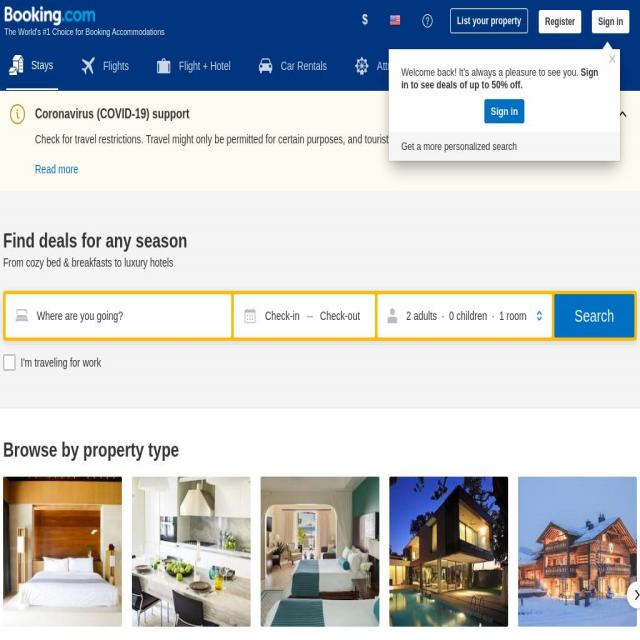language: (385, 5, 409, 33)
login-option: (590, 5, 634, 35)
navigation-blocks: (5, 465, 640, 640)
navigation-links: (5, 48, 387, 87)
search: (5, 223, 640, 380)
sign-up-option: (541, 7, 584, 40)
